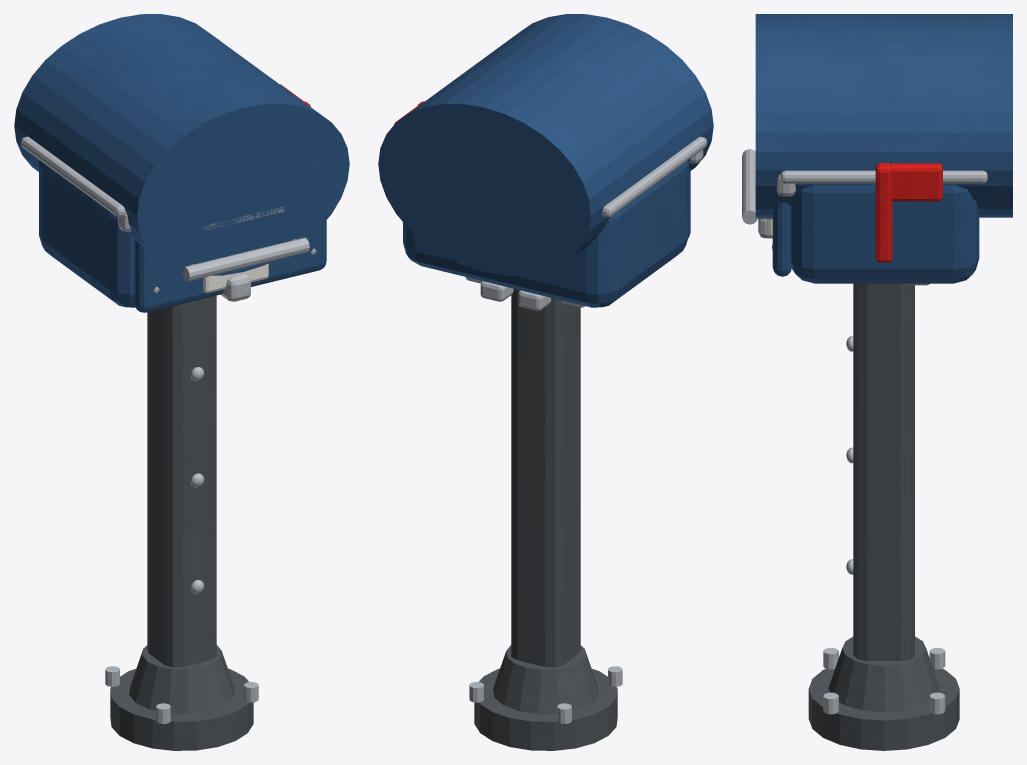
File: prop_mailbox.glb
3 views of the same model, side by side, from view 1: azimuth 30°, elevation 25°; view 2: azimuth 150°, elevation 25°; view 3: azimuth 270°, elevation 25° (orthographic). The views are drawn at different scales.
Visible parts, largest first — view 1: prop_mailbox_barrel, prop_mailbox_post, prop_mailbox_body, prop_mailbox_base_plate, prop_mailbox_base_collar, prop_mailbox_door, prop_mailbox_handle, prop_mailbox_drip_cap, prop_mailbox_plate, prop_mailbox_door_stop; view 2: prop_mailbox_barrel, prop_mailbox_post, prop_mailbox_body, prop_mailbox_base_plate, prop_mailbox_base_collar, prop_mailbox_drip_cap; view 3: prop_mailbox_barrel, prop_mailbox_post, prop_mailbox_body, prop_mailbox_base_plate, prop_mailbox_base_collar, prop_mailbox_flag_vane, prop_mailbox_drip_cap, prop_mailbox_flag_arm, prop_mailbox_door, prop_mailbox_handle.
Part boxes in pixels (x1,y1,x2,y2): prop_mailbox_barrel: (14,14,349,275); prop_mailbox_post: (147,295,216,667); prop_mailbox_body: (39,160,135,307); prop_mailbox_base_plate: (110,668,253,750); prop_mailbox_base_collar: (129,645,234,713); prop_mailbox_door: (134,220,326,312); prop_mailbox_handle: (182,237,309,281); prop_mailbox_drip_cap: (21,136,125,217); prop_mailbox_plate: (203,263,268,292); prop_mailbox_door_stop: (220,274,250,301); prop_mailbox_barrel: (378,14,713,275); prop_mailbox_post: (511,289,580,667); prop_mailbox_body: (403,160,688,307); prop_mailbox_base_plate: (474,668,617,750); prop_mailbox_base_collar: (493,645,598,713); prop_mailbox_drip_cap: (602,136,706,217); prop_mailbox_barrel: (755,14,1012,217); prop_mailbox_post: (853,283,914,660); prop_mailbox_body: (790,184,979,283); prop_mailbox_base_plate: (808,668,959,750); prop_mailbox_base_collar: (828,636,939,712); prop_mailbox_flag_vane: (889,163,942,201); prop_mailbox_drip_cap: (780,170,987,183); prop_mailbox_flag_arm: (875,163,892,262); prop_mailbox_door: (772,202,791,276); prop_mailbox_handle: (742,149,757,224).
Bounding box in the file's own units: 0.52 × 1.36 × 0.484.
6 materials, 6 textured.
